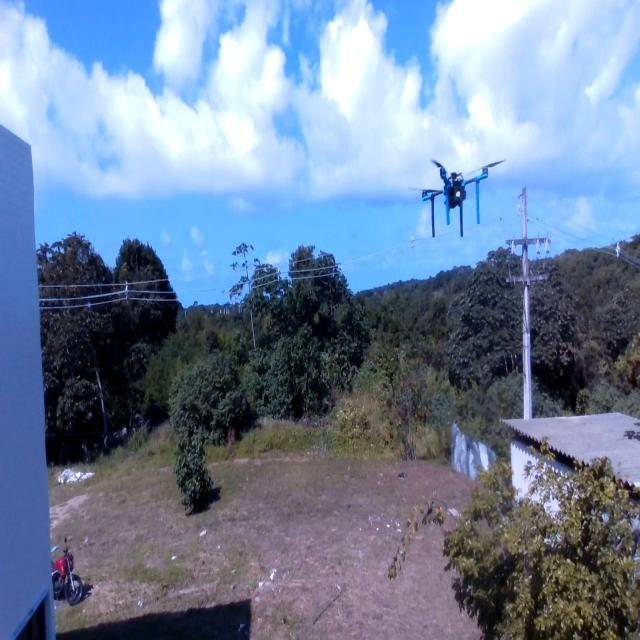-uav-: (402, 145, 508, 242)
